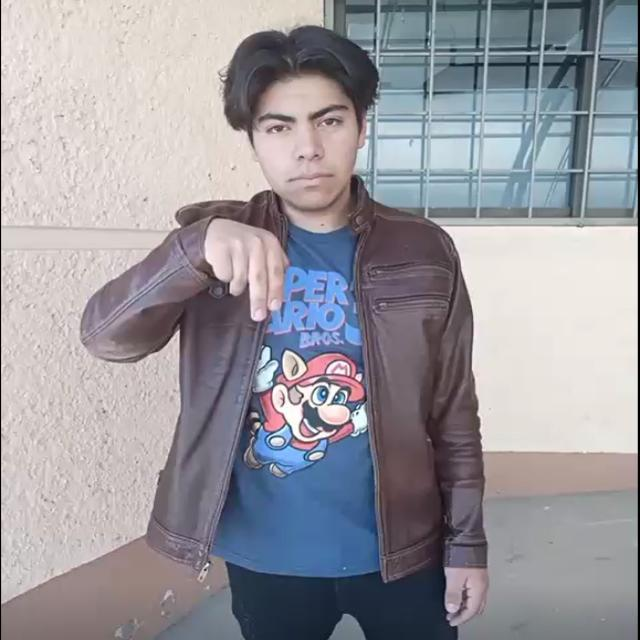N: (175, 200, 315, 346)
